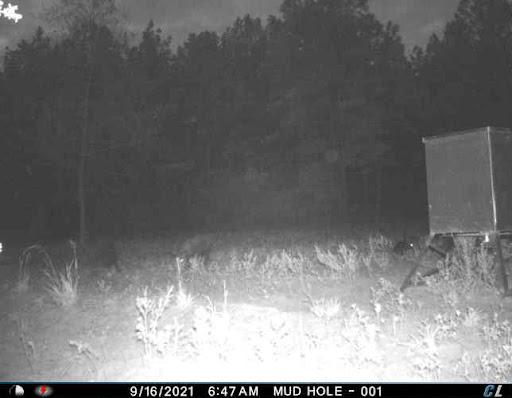Hog: (76, 235, 127, 283), (168, 234, 218, 275), (389, 231, 420, 262)
